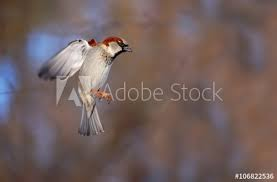hsparrow: (42, 31, 135, 146)
